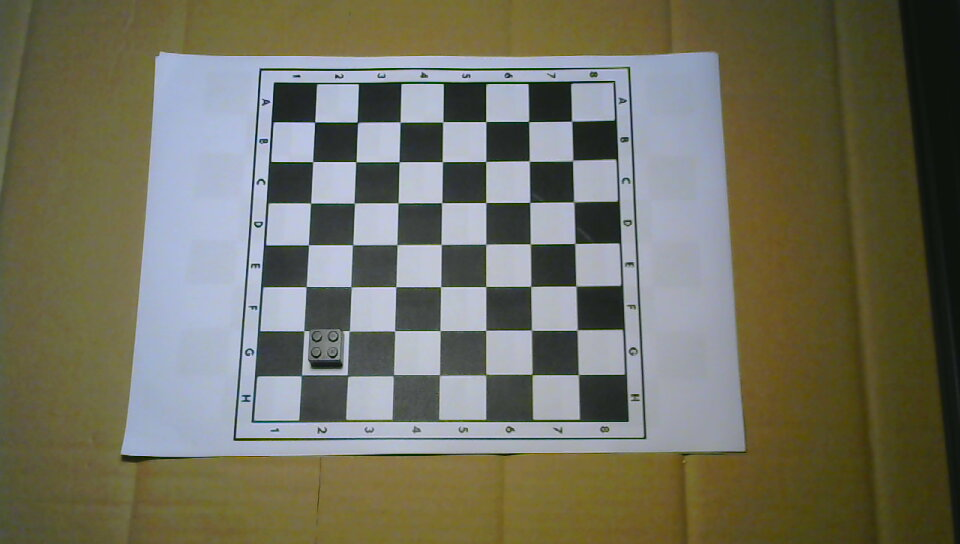bp: (307, 327, 347, 369)
